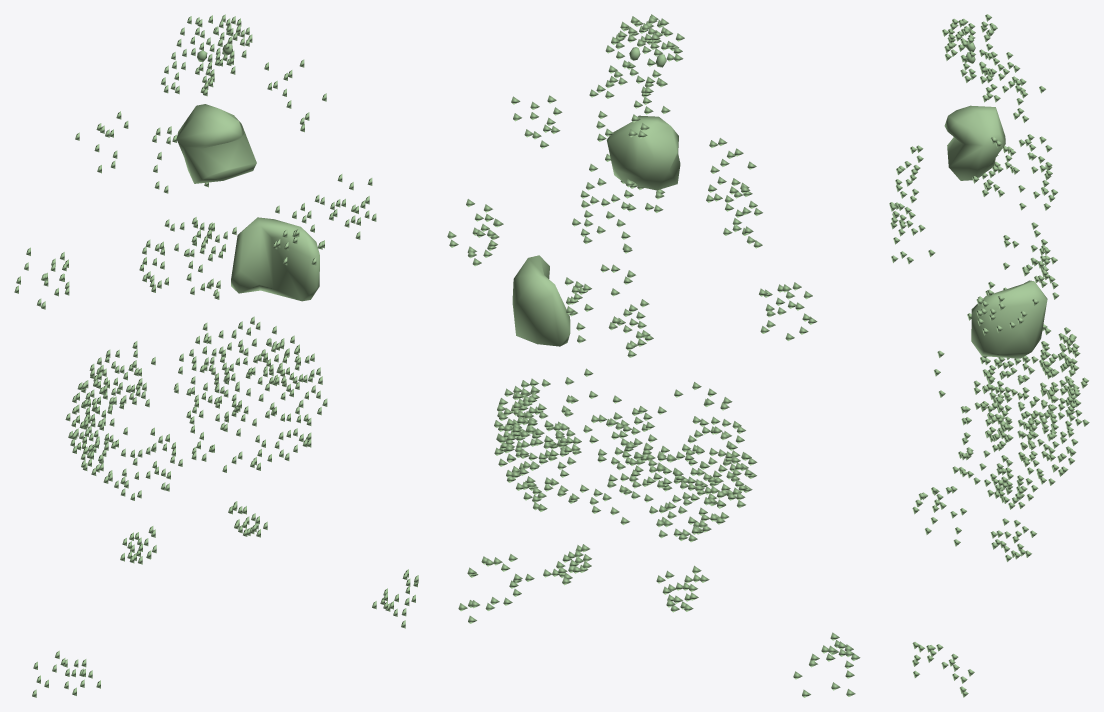
The model's file is pediatric_neonate_female.lymphatic.LOD3.glb.
The picture shows the model from 3 angles, left to right: view 1: azimuth 30°, elevation 25°; view 2: azimuth 150°, elevation 25°; view 3: azimuth 270°, elevation 25°; orthographic projection. The views are drawn at different scales.
Parts seen in each view (by area): view 1: PEDIATRIC.NEONATE.FEMALE.LYMPHATIC.LYMPHATIC_NODES_TRUNK, PEDIATRIC.NEONATE.FEMALE.LYMPHATIC.SPLEEN, PEDIATRIC.NEONATE.FEMALE.LYMPHATIC.THYMUS, PEDIATRIC.NEONATE.FEMALE.LYMPHATIC.LYMPHATIC_NODES_ET, PEDIATRIC.NEONATE.FEMALE.LYMPHATIC.LYMPHATIC_NODES_THORACIC, PEDIATRIC.NEONATE.FEMALE.LYMPHATIC.LYMPHATIC_NODES_ARMS, PEDIATRIC.NEONATE.FEMALE.LYMPHATIC.LYMPHATIC_NODES_LEGS; view 2: PEDIATRIC.NEONATE.FEMALE.LYMPHATIC.LYMPHATIC_NODES_TRUNK, PEDIATRIC.NEONATE.FEMALE.LYMPHATIC.THYMUS, PEDIATRIC.NEONATE.FEMALE.LYMPHATIC.SPLEEN, PEDIATRIC.NEONATE.FEMALE.LYMPHATIC.LYMPHATIC_NODES_THORACIC, PEDIATRIC.NEONATE.FEMALE.LYMPHATIC.LYMPHATIC_NODES_ET, PEDIATRIC.NEONATE.FEMALE.LYMPHATIC.LYMPHATIC_NODES_ARMS, PEDIATRIC.NEONATE.FEMALE.LYMPHATIC.LYMPHATIC_NODES_LEGS, PEDIATRIC.NEONATE.FEMALE.LYMPHATIC.LYMPHATIC_NODES_HEAD; view 3: PEDIATRIC.NEONATE.FEMALE.LYMPHATIC.LYMPHATIC_NODES_TRUNK, PEDIATRIC.NEONATE.FEMALE.LYMPHATIC.SPLEEN, PEDIATRIC.NEONATE.FEMALE.LYMPHATIC.THYMUS, PEDIATRIC.NEONATE.FEMALE.LYMPHATIC.LYMPHATIC_NODES_THORACIC, PEDIATRIC.NEONATE.FEMALE.LYMPHATIC.LYMPHATIC_NODES_ET, PEDIATRIC.NEONATE.FEMALE.LYMPHATIC.LYMPHATIC_NODES_LEGS, PEDIATRIC.NEONATE.FEMALE.LYMPHATIC.LYMPHATIC_NODES_ARMS, PEDIATRIC.NEONATE.FEMALE.LYMPHATIC.LYMPHATIC_NODES_HEAD.
Part boxes in pixels (left/top/right/bottom): PEDIATRIC.NEONATE.FEMALE.LYMPHATIC.LYMPHATIC_NODES_TRUNK: left=65, top=59, right=327, bottom=564; PEDIATRIC.NEONATE.FEMALE.LYMPHATIC.SPLEEN: left=231, top=217, right=319, bottom=301; PEDIATRIC.NEONATE.FEMALE.LYMPHATIC.THYMUS: left=176, top=104, right=256, bottom=183; PEDIATRIC.NEONATE.FEMALE.LYMPHATIC.LYMPHATIC_NODES_ET: left=176, top=14, right=252, bottom=87; PEDIATRIC.NEONATE.FEMALE.LYMPHATIC.LYMPHATIC_NODES_THORACIC: left=139, top=126, right=236, bottom=299; PEDIATRIC.NEONATE.FEMALE.LYMPHATIC.LYMPHATIC_NODES_ARMS: left=14, top=174, right=376, bottom=309; PEDIATRIC.NEONATE.FEMALE.LYMPHATIC.LYMPHATIC_NODES_LEGS: left=32, top=569, right=418, bottom=697; PEDIATRIC.NEONATE.FEMALE.LYMPHATIC.LYMPHATIC_NODES_TRUNK: left=494, top=95, right=762, bottom=612; PEDIATRIC.NEONATE.FEMALE.LYMPHATIC.THYMUS: left=606, top=115, right=680, bottom=190; PEDIATRIC.NEONATE.FEMALE.LYMPHATIC.SPLEEN: left=512, top=255, right=570, bottom=346; PEDIATRIC.NEONATE.FEMALE.LYMPHATIC.LYMPHATIC_NODES_THORACIC: left=565, top=178, right=653, bottom=357; PEDIATRIC.NEONATE.FEMALE.LYMPHATIC.LYMPHATIC_NODES_ET: left=605, top=14, right=684, bottom=94; PEDIATRIC.NEONATE.FEMALE.LYMPHATIC.LYMPHATIC_NODES_ARMS: left=447, top=199, right=817, bottom=340; PEDIATRIC.NEONATE.FEMALE.LYMPHATIC.LYMPHATIC_NODES_LEGS: left=458, top=554, right=860, bottom=697; PEDIATRIC.NEONATE.FEMALE.LYMPHATIC.LYMPHATIC_NODES_HEAD: left=589, top=76, right=670, bottom=141; PEDIATRIC.NEONATE.FEMALE.LYMPHATIC.LYMPHATIC_NODES_TRUNK: left=889, top=58, right=1089, bottom=561; PEDIATRIC.NEONATE.FEMALE.LYMPHATIC.SPLEEN: left=971, top=280, right=1047, bottom=358; PEDIATRIC.NEONATE.FEMALE.LYMPHATIC.THYMUS: left=944, top=105, right=1005, bottom=180; PEDIATRIC.NEONATE.FEMALE.LYMPHATIC.LYMPHATIC_NODES_THORACIC: left=1003, top=134, right=1059, bottom=299; PEDIATRIC.NEONATE.FEMALE.LYMPHATIC.LYMPHATIC_NODES_ET: left=942, top=14, right=997, bottom=83; PEDIATRIC.NEONATE.FEMALE.LYMPHATIC.LYMPHATIC_NODES_LEGS: left=912, top=486, right=974, bottom=697; PEDIATRIC.NEONATE.FEMALE.LYMPHATIC.LYMPHATIC_NODES_ARMS: left=976, top=153, right=1038, bottom=335; PEDIATRIC.NEONATE.FEMALE.LYMPHATIC.LYMPHATIC_NODES_HEAD: left=980, top=52, right=1028, bottom=122.
Bounding box in the file's own units: 0.1861 × 0.2974 × 0.0904.
